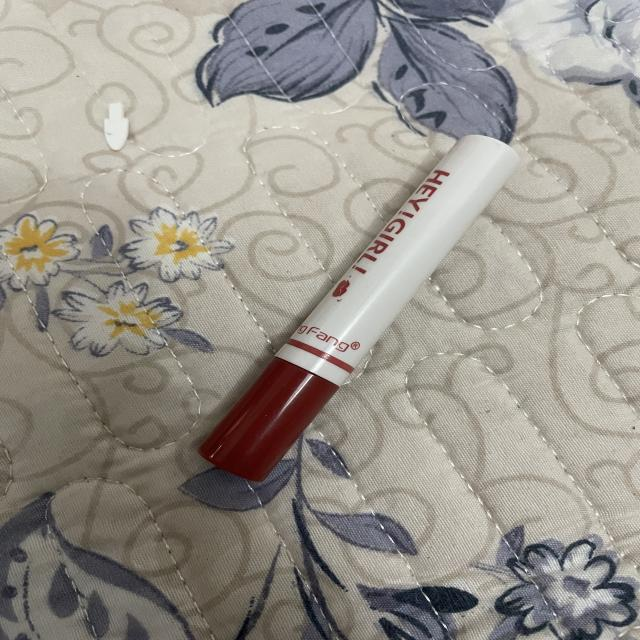Tint: (171, 84, 491, 490)
